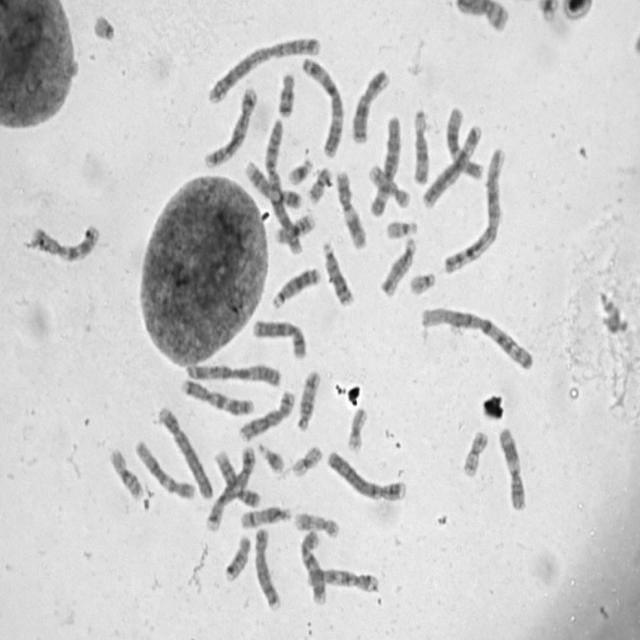A1: (440, 142, 508, 276), (417, 301, 537, 372)
A2: (203, 31, 324, 105), (262, 114, 304, 254)
A3: (299, 51, 345, 158), (182, 358, 282, 388)
B4: (155, 401, 216, 501), (324, 445, 408, 503)
B5: (201, 81, 260, 169), (204, 440, 256, 532)
C10: (296, 525, 328, 606), (302, 564, 380, 594)
C11: (333, 165, 369, 251), (495, 423, 528, 512)
C12: (132, 435, 198, 501), (444, 101, 486, 180)
C6: (420, 119, 484, 209), (366, 110, 403, 219)
C7: (178, 374, 257, 417), (27, 219, 101, 263)
C8: (236, 386, 296, 443), (251, 522, 283, 612)
C9: (242, 156, 304, 210), (212, 446, 263, 510)
D13: (268, 261, 323, 310), (319, 237, 356, 308)
D14: (294, 365, 323, 432), (237, 501, 294, 530)
D15: (378, 233, 418, 298), (409, 104, 432, 186)
E16: (106, 444, 144, 501), (272, 208, 317, 245)
E17: (366, 160, 412, 209), (291, 506, 341, 540)
E18: (222, 532, 252, 584), (274, 68, 297, 120)
F19: (289, 441, 324, 479), (344, 402, 369, 454)
F20: (460, 426, 490, 478), (304, 162, 334, 204)
G21: (255, 438, 286, 475), (284, 153, 315, 186)
G22: (89, 9, 118, 42), (383, 215, 420, 240)
X: (349, 64, 391, 145), (250, 315, 308, 360)
